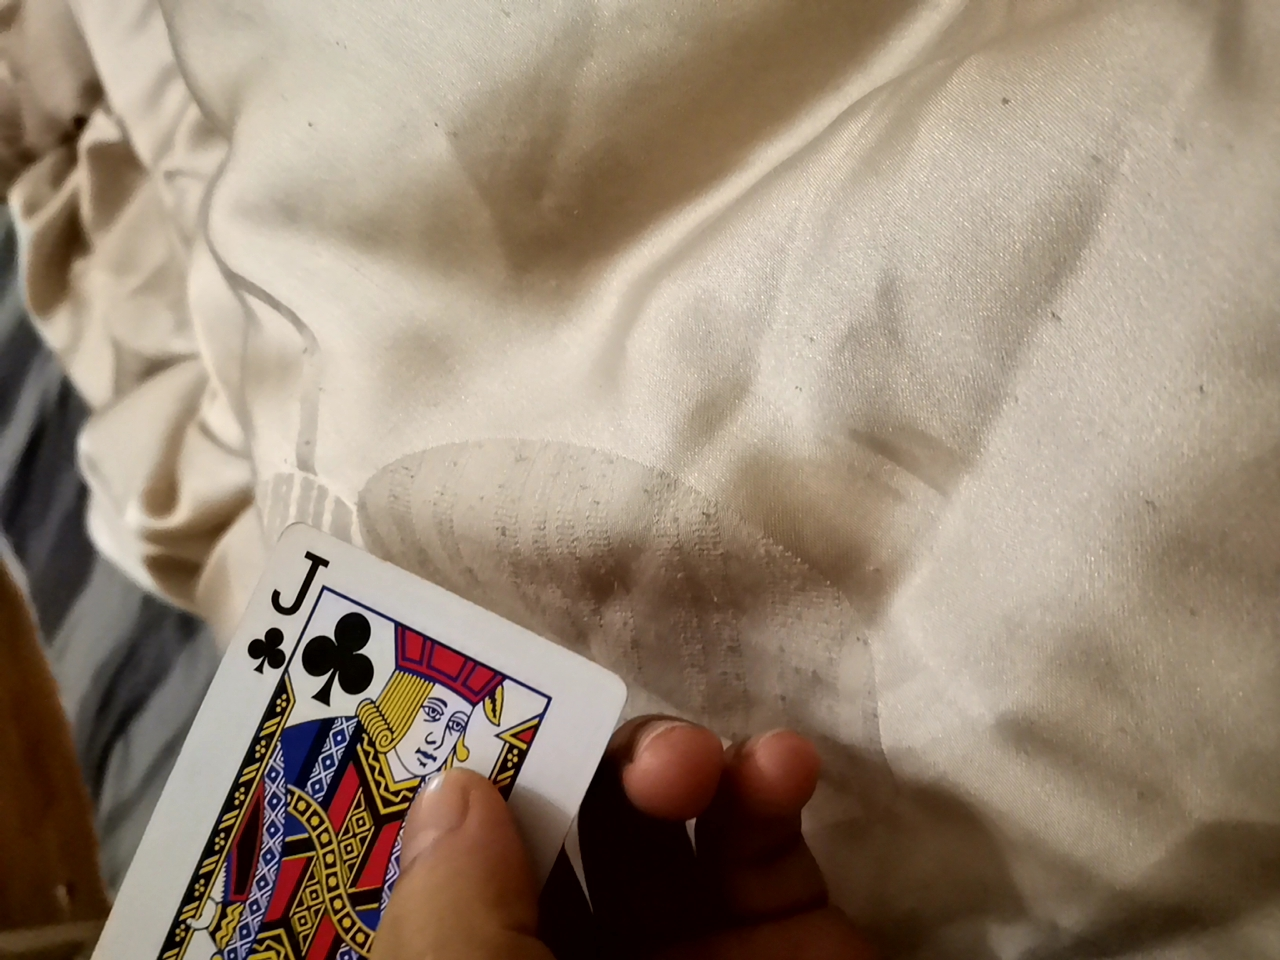mh j: (52, 559, 647, 955)
